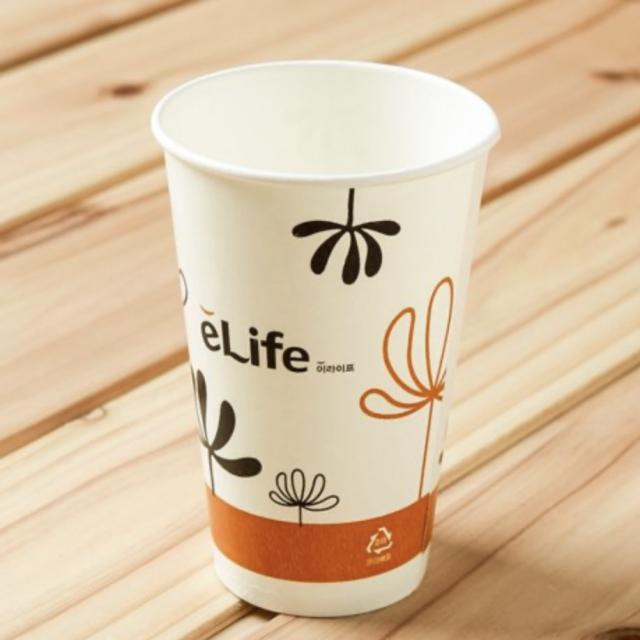non-biodegradable: (144, 35, 503, 639)
